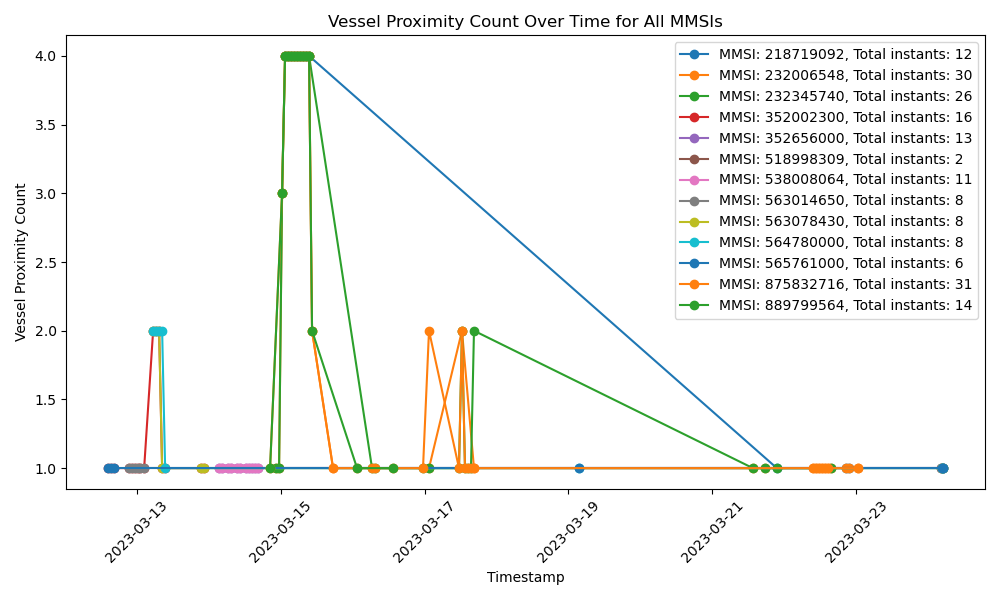

The page's visual inventory and layout, read from the dashboard file:
{"tool":"powerbi","page":{"name":"Page 1","canvas":[1280,720],"ordinal":0},"visuals":[{"type":"lineChart","fields":{"Category":["proximity_data_expanded.timestamp"],"Y":["Count(proximity_data_expanded.vessel_proximity)"]},"box":[16,0,1264,720],"z":0}]}

Visuals, with their boxes on the page's 1280x720 design canvas (x1, y1, x2, y2). These are canvas units, not pixel positions in the 1000x600 screenshot, which may show the page scaled, cropped or inside an application window:
lineChart - proximity_data_expanded.timestamp x Count(proximity_data_expanded.vessel_proximity): bbox=(16, 0, 1280, 720)
